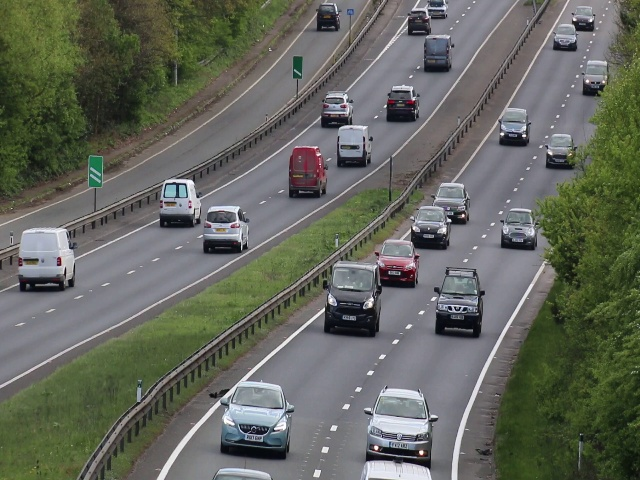car: (365, 388, 432, 464), (222, 380, 289, 454), (325, 261, 381, 339), (18, 226, 77, 293), (432, 266, 485, 338), (204, 202, 251, 253), (159, 178, 203, 227), (289, 145, 328, 199), (377, 240, 419, 286), (410, 207, 452, 248), (337, 126, 373, 168), (501, 203, 532, 250), (386, 85, 423, 124), (498, 105, 532, 146), (421, 32, 454, 73), (319, 90, 353, 126), (432, 184, 469, 217), (543, 128, 570, 170), (315, 1, 341, 34), (582, 57, 605, 93), (408, 5, 432, 34), (550, 26, 577, 48), (571, 8, 598, 25)
